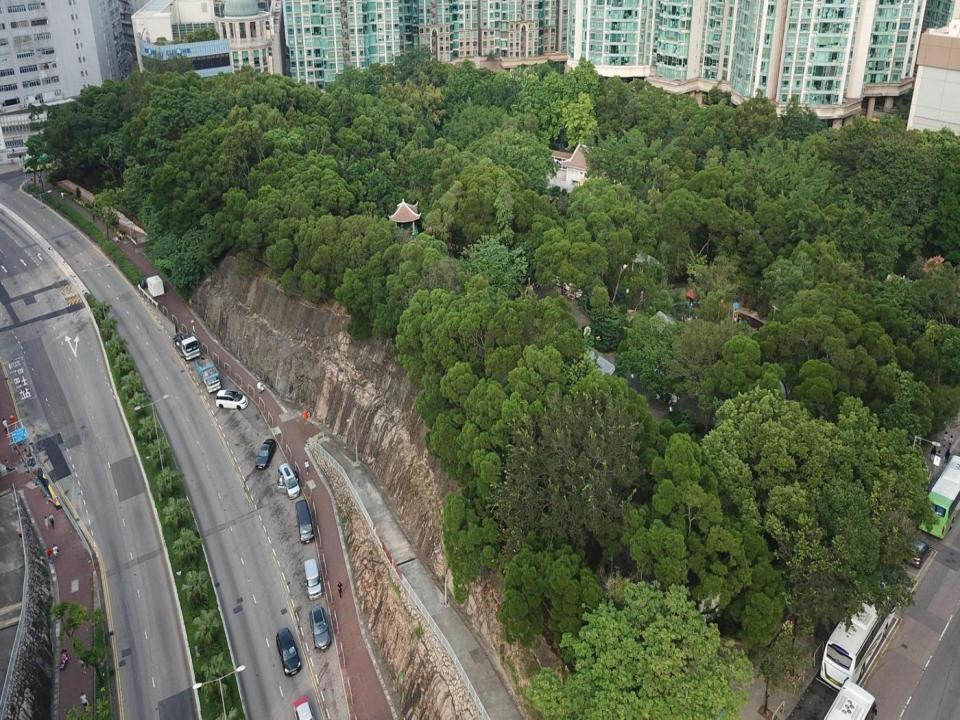bus: (22, 155, 54, 173)
car: (216, 389, 248, 410), (255, 438, 276, 470), (293, 696, 315, 719)
truck: (195, 353, 221, 393), (172, 323, 200, 360)
van: (276, 627, 301, 676), (309, 606, 331, 650), (295, 500, 315, 544), (278, 462, 300, 499), (304, 558, 322, 600)
